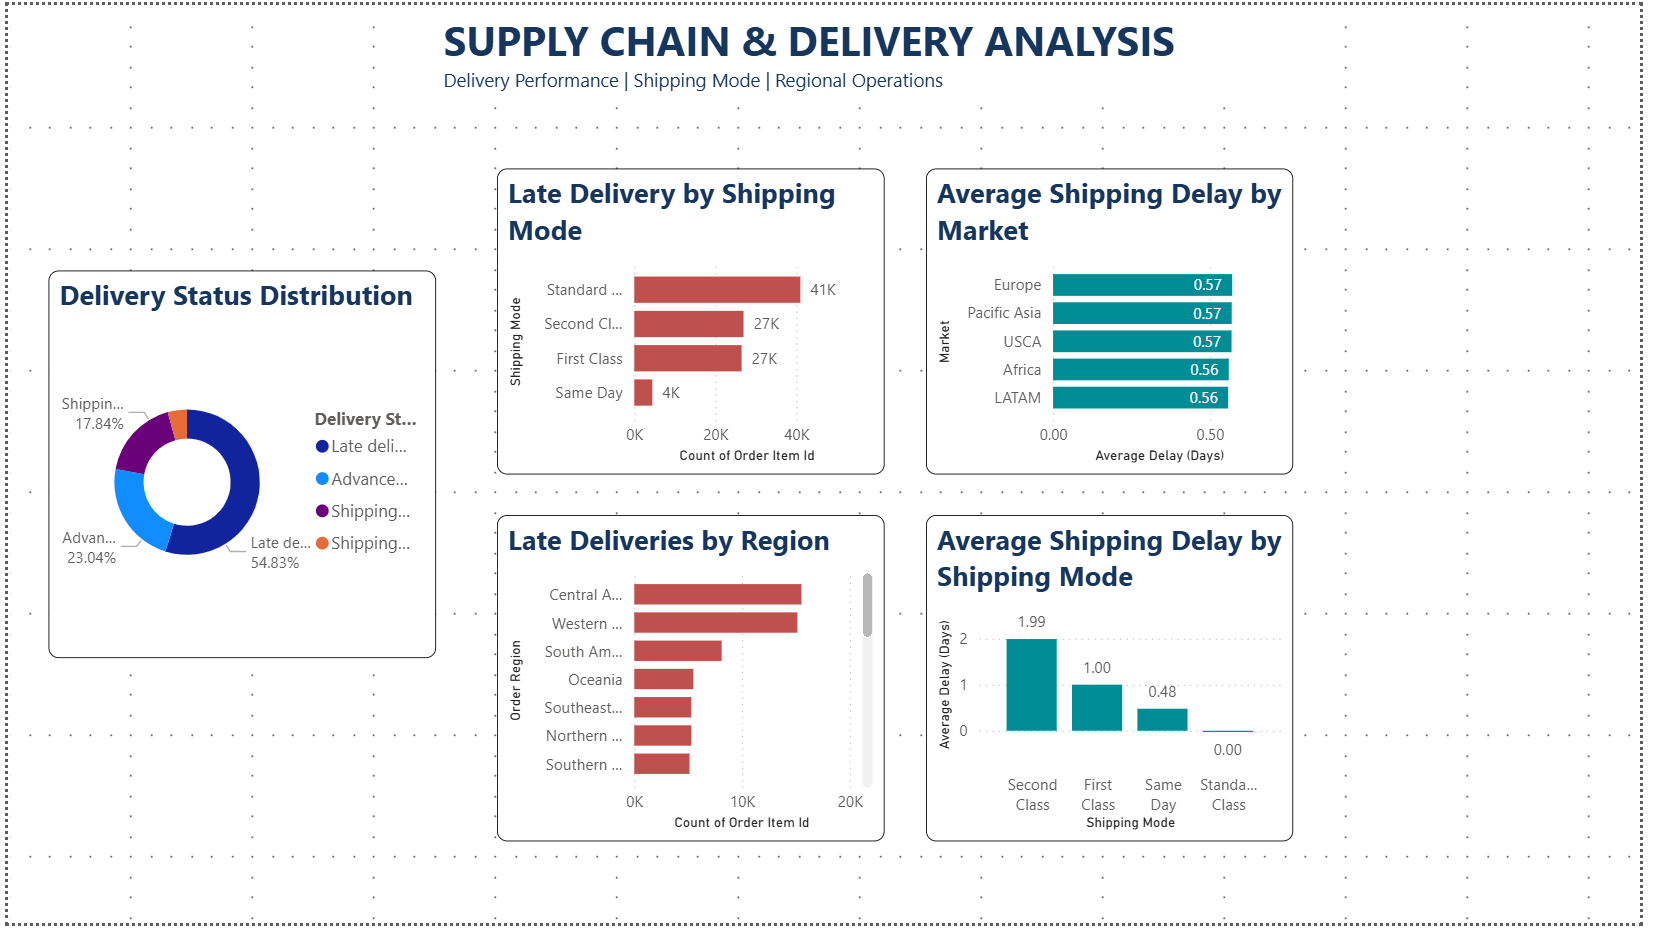

This screenshot's page, from the dashboard's own definition file:
{"tool":"powerbi","page":{"name":"Supply Chain & Delivery","canvas":[1280,720],"ordinal":2},"visuals":[{"type":"textbox","box":[336,0,688,80],"z":0},{"type":"donutChart","title":"Delivery Status Distribution","fields":{"Category":["public supply_chain.Delivery Status"],"Y":["CountNonNull(public supply_chain.Order Item Id)"]},"box":[32,208,304,304],"z":1},{"type":"clusteredBarChart","title":"Late Delivery by Shipping Mode","fields":{"Category":["public supply_chain.Shipping Mode"],"Y":["CountNonNull(public supply_chain.Order Item Id)"]},"box":[384,128,304,240],"z":2},{"type":"clusteredBarChart","title":"Average Shipping Delay by Market","fields":{"Category":["public supply_chain.Market"],"Y":["Avg(public supply_chain.Shipping Delay Days)"]},"box":[720,128,288,240],"z":3},{"type":"clusteredBarChart","title":"Late Deliveries by Region","fields":{"Category":["public supply_chain.Order Region"],"Y":["CountNonNull(public supply_chain.Order Item Id)"]},"box":[384,400,304,256],"z":4},{"type":"clusteredColumnChart","title":"Average Shipping Delay by Shipping Mode","fields":{"Category":["public supply_chain.Shipping Mode"],"Y":["Avg(public supply_chain.Shipping Delay Days)"]},"box":[720,400,288,256],"z":5}]}

Visuals, with their boxes in screenshot pixels (x1, y1, x2, y2), scaled from the page's 1280x720 canvas onto the 1654x937 screenshot:
textbox: [434, 0, 1323, 104]
"Delivery Status Distribution" donutChart: [41, 271, 434, 666]
"Late Delivery by Shipping Mode" clusteredBarChart: [496, 167, 889, 479]
"Average Shipping Delay by Market" clusteredBarChart: [930, 167, 1303, 479]
"Late Deliveries by Region" clusteredBarChart: [496, 521, 889, 854]
"Average Shipping Delay by Shipping Mode" clusteredColumnChart: [930, 521, 1303, 854]
